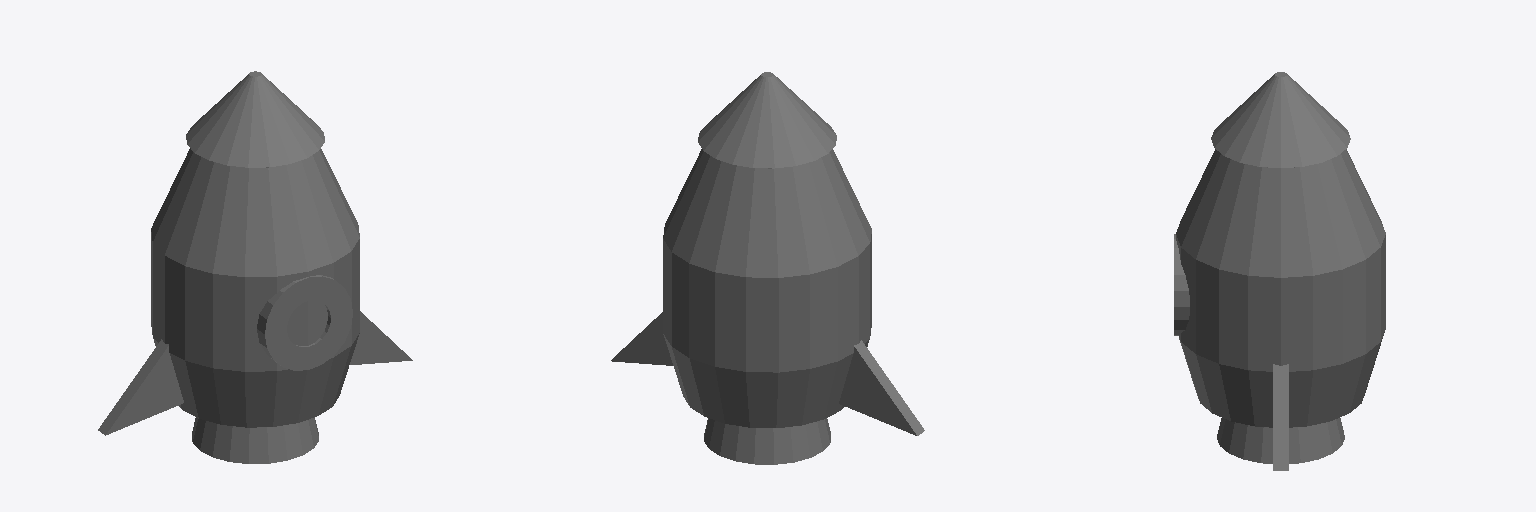
Rendered from ship.obj.
The picture shows the model from 3 angles: view 1: azimuth 30°, elevation 25°; view 2: azimuth 150°, elevation 25°; view 3: azimuth 270°, elevation 25°; orthographic projection.
Bounding box in the file's own units: 3.38 × 3.81 × 2.02.